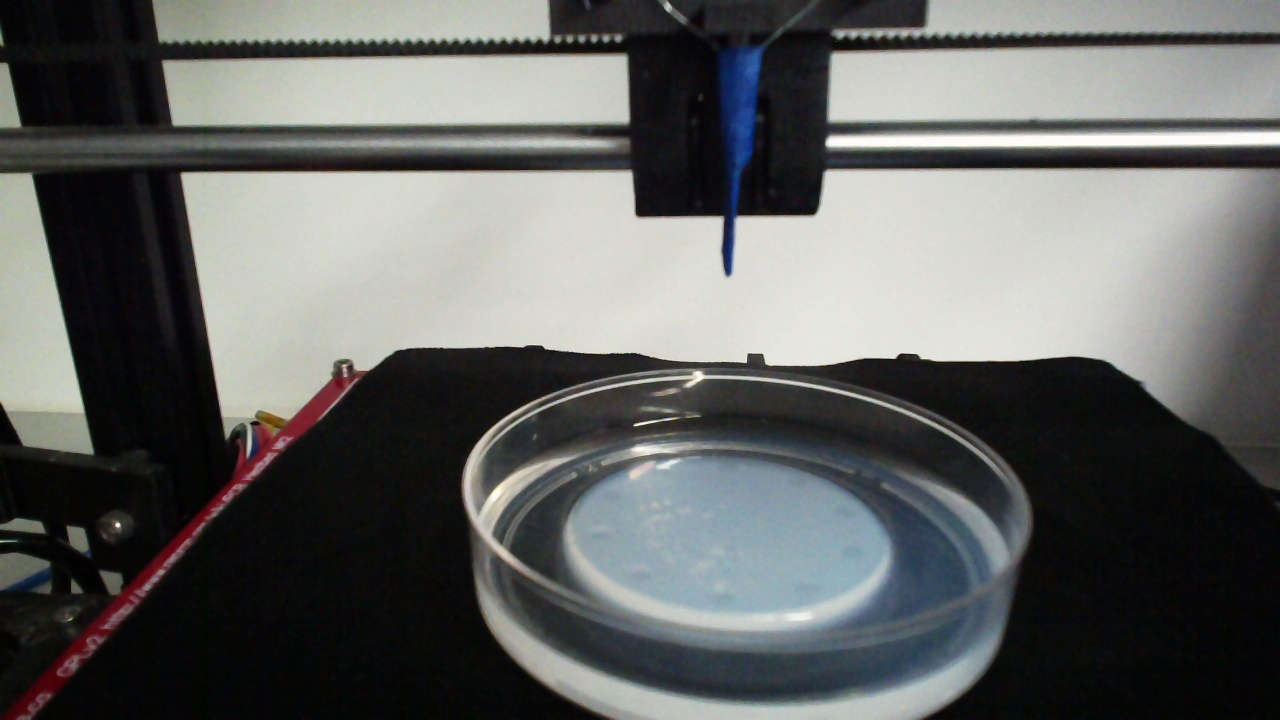groove: (829, 498, 862, 523), (789, 576, 824, 599), (711, 455, 744, 478), (837, 540, 868, 564), (781, 468, 813, 491), (707, 585, 738, 608), (588, 522, 617, 545), (626, 563, 655, 585), (600, 484, 625, 504)
needle: (721, 49, 759, 276)
